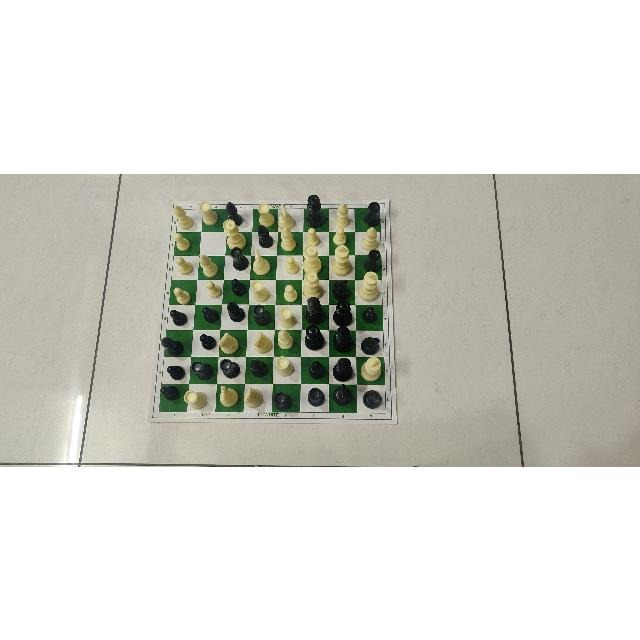black-bishop: (222, 200, 246, 225), (161, 334, 185, 358), (246, 357, 270, 380), (253, 225, 276, 249), (224, 300, 247, 321), (306, 359, 325, 379)
black-king: (302, 295, 328, 326), (331, 326, 357, 354), (331, 357, 354, 381)
black-knight: (331, 383, 356, 406), (358, 333, 381, 354), (361, 387, 383, 408), (332, 279, 352, 300)
black-pawn: (167, 305, 191, 327), (158, 383, 182, 403), (196, 331, 220, 351), (164, 363, 187, 381), (201, 305, 221, 325), (361, 304, 381, 324), (228, 276, 247, 296)
black-queen: (301, 193, 326, 229), (330, 300, 354, 330), (302, 326, 325, 352)
black-rook: (269, 388, 296, 412), (361, 200, 384, 227), (360, 248, 383, 275), (190, 360, 216, 382), (250, 303, 274, 326), (306, 386, 330, 409), (218, 357, 242, 379), (229, 245, 249, 270)
white-bishop: (170, 201, 197, 230), (330, 201, 354, 230), (197, 252, 221, 278), (358, 225, 382, 251), (277, 226, 301, 251), (275, 327, 298, 351)
white-king: (328, 243, 354, 276), (358, 270, 382, 302), (359, 354, 385, 382)
white-knight: (215, 381, 240, 408), (251, 248, 273, 278), (217, 330, 242, 356), (250, 331, 275, 355), (276, 205, 298, 231), (240, 386, 266, 408)
white-pawn: (172, 230, 193, 253), (280, 282, 301, 303), (331, 225, 351, 247), (172, 285, 193, 305), (203, 278, 223, 299), (303, 226, 323, 246), (173, 256, 194, 275), (281, 256, 301, 274)
white-queen: (219, 216, 249, 251), (300, 244, 326, 279), (300, 270, 324, 302)
white-rook: (254, 202, 280, 228), (196, 201, 222, 225), (181, 388, 209, 410), (274, 354, 295, 380), (250, 280, 273, 301), (277, 306, 297, 328)
